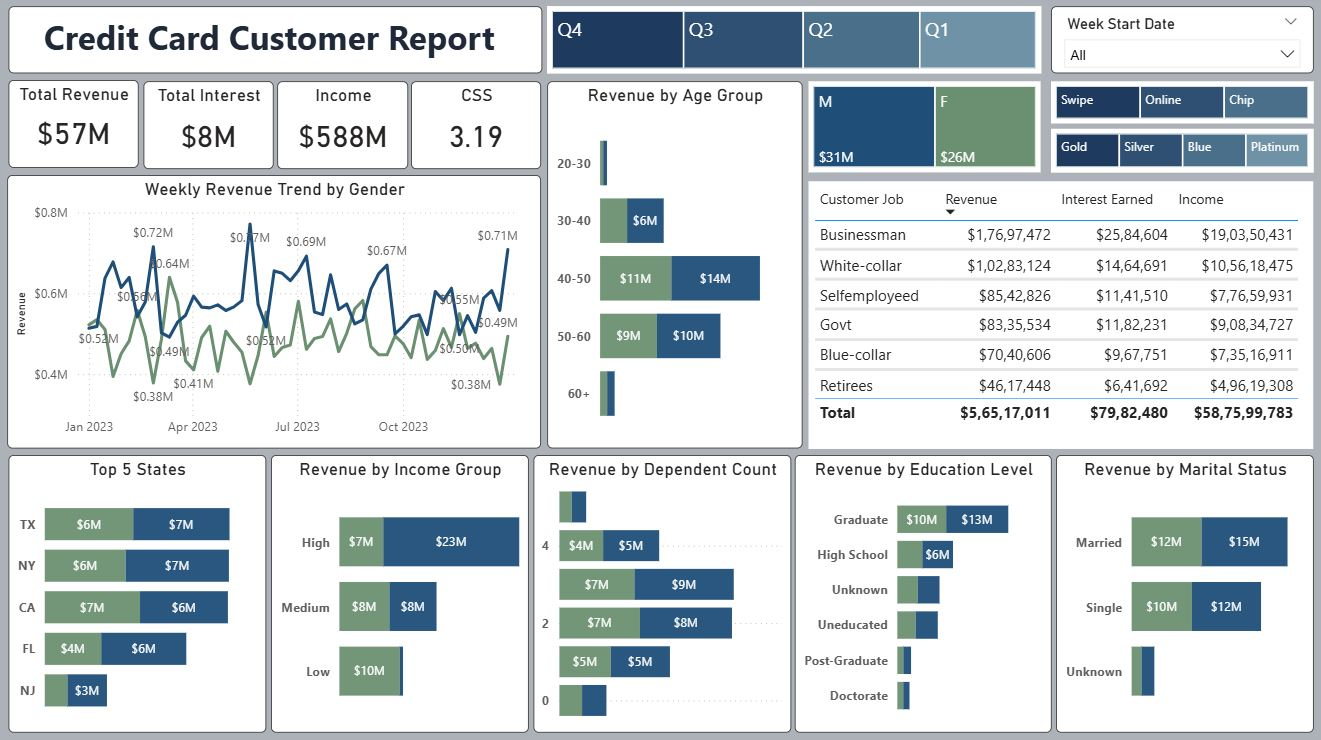

What the dashboard file says about the page in this screenshot:
{"tool":"powerbi","page":{"name":"Credit Card Customer","canvas":[1280,720],"ordinal":1},"visuals":[{"type":"textbox","box":[12.1,10.9,515.2,65.1],"z":0},{"type":"barChart","title":"Revenue by Income Group","fields":{"Y":["Sum(public cc_detail.Revenue)"],"Category":["public cust_detail.IncomeGroup"],"Series":["public cust_detail.gender"]},"box":[265.4,444,248.5,267.8],"z":1000},{"type":"tableEx","fields":{"Values":["public cust_detail.customer_job","Sum(public cc_detail.Revenue)","Sum(public cc_detail.interest_earned)","Sum(public cust_detail.income)"]},"box":[784.2,179.8,487.4,258.2],"z":2000},{"type":"card","title":"Total Revenue","fields":{"Values":["Sum(public cc_detail.Revenue)"]},"box":[12.1,82,125.5,84.5],"z":3000},{"type":"card","title":"Total Interest","fields":{"Values":["Sum(public cc_detail.interest_earned)"]},"box":[142.4,83.2,125.5,84.5],"z":4000},{"type":"card","title":"Income","fields":{"Values":["Sum(public cust_detail.income)"]},"box":[271.4,83.2,126.7,84.5],"z":5000},{"type":"card","title":"CSS","fields":{"Values":["Avg(public cust_detail.cust_satisfaction_score)"]},"box":[400.5,83.2,125.5,84.5],"z":6000},{"type":"slicer","fields":{"Values":["public cc_detail.week_start_date"]},"box":[1018.2,10.9,253.4,65.1],"z":7000},{"type":"treemap","fields":{"Group":["public cc_detail.qtr"],"Values":["Avg(public cust_detail.client_num)"]},"box":[532,10.9,476.5,65.1],"z":8000},{"type":"treemap","fields":{"Values":["Avg(public cust_detail.client_num)"],"Group":["public cc_detail.card_category"]},"box":[1018.2,129.1,253.4,42.2],"z":9000},{"type":"lineChart","title":"Weekly Revenue Trend by Gender","fields":{"Y":["Sum(public cc_detail.Revenue)"],"Series":["public cust_detail.gender"],"Category":["public cc_detail.week_start_date.Variation.Date Hierarchy.Year","public cc_detail.week_start_date.Variation.Date Hierarchy.Month","public cc_detail.week_start_date.Variation.Date Hierarchy.Day"]},"box":[10.9,173.7,515.2,264.2],"z":10000},{"type":"treemap","fields":{"Group":["public cust_detail.gender"],"Values":["Sum(public cc_detail.Revenue)"]},"box":[784.2,83.2,224.4,88.1],"z":11000},{"type":"barChart","title":"Revenue by Age Group","fields":{"Y":["Sum(public cc_detail.Revenue)"],"Category":["public cust_detail.AgeGroup"],"Series":["public cust_detail.gender"]},"box":[532,83.2,246.1,354.7],"z":12000},{"type":"barChart","title":"Revenue by Dependent Count","fields":{"Y":["Sum(public cc_detail.Revenue)"],"Category":["public cust_detail.dependent_count"],"Series":["public cust_detail.gender"]},"box":[518.8,444,248.5,267.8],"z":13000},{"type":"barChart","title":"Revenue by Education Level","fields":{"Y":["Sum(public cc_detail.Revenue)"],"Category":["public cust_detail.education_level"],"Series":["public cust_detail.gender"]},"box":[770.9,444,248,267.8],"z":14000},{"type":"barChart","title":"Top 5 States","fields":{"Y":["Sum(public cc_detail.Revenue)"],"Category":["public cust_detail.state_cd"],"Series":["public cust_detail.gender"]},"box":[12.1,444,248.5,267.8],"z":15000},{"type":"barChart","title":"Revenue by Marital Status","fields":{"Y":["Sum(public cc_detail.Revenue)"],"Category":["public cust_detail.marital_status"],"Series":["public cust_detail.gender"]},"box":[1023.1,444,248.5,267.8],"z":16000},{"type":"treemap","fields":{"Values":["Avg(public cust_detail.client_num)"],"Group":["public cc_detail.use_chip"]},"box":[1018.2,83.2,253.4,41],"z":17000},{"type":"treemap","fields":{"Group":["public cc_detail.qtr"],"Values":["Avg(public cust_detail.client_num)"]},"box":[532,10.9,476.5,65.1],"z":19000}]}

Visuals, with their boxes in screenshot pixels (x1, y1, x2, y2), scaled from the page's 1280x720 canvas onto the 1321x740 screenshot:
textbox: crop(12, 11, 544, 78)
"Revenue by Income Group" barChart: crop(274, 456, 530, 732)
tableEx - public cust_detail.customer_job x Sum(public cc_detail.Revenue): crop(809, 185, 1312, 450)
"Total Revenue" card: crop(12, 84, 142, 171)
"Total Interest" card: crop(147, 86, 276, 172)
"Income" card: crop(280, 86, 411, 172)
"CSS" card: crop(413, 86, 543, 172)
slicer - public cc_detail.week_start_date: crop(1051, 11, 1312, 78)
treemap - public cc_detail.qtr x Avg(public cust_detail.client_num): crop(549, 11, 1041, 78)
treemap - Avg(public cust_detail.client_num) x public cc_detail.card_category: crop(1051, 133, 1312, 176)
"Weekly Revenue Trend by Gender" lineChart: crop(11, 179, 543, 450)
treemap - public cust_detail.gender x Sum(public cc_detail.Revenue): crop(809, 86, 1041, 176)
"Revenue by Age Group" barChart: crop(549, 86, 803, 450)
"Revenue by Dependent Count" barChart: crop(535, 456, 792, 732)
"Revenue by Education Level" barChart: crop(796, 456, 1052, 732)
"Top 5 States" barChart: crop(12, 456, 269, 732)
"Revenue by Marital Status" barChart: crop(1056, 456, 1312, 732)
treemap - Avg(public cust_detail.client_num) x public cc_detail.use_chip: crop(1051, 86, 1312, 128)
treemap - public cc_detail.qtr x Avg(public cust_detail.client_num): crop(549, 11, 1041, 78)
